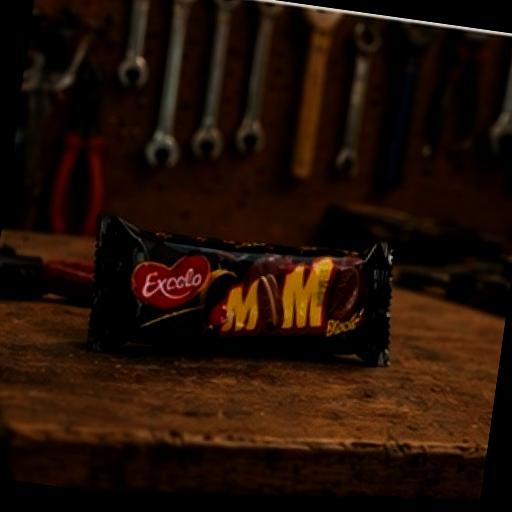MOMO: (60, 169, 463, 396)
